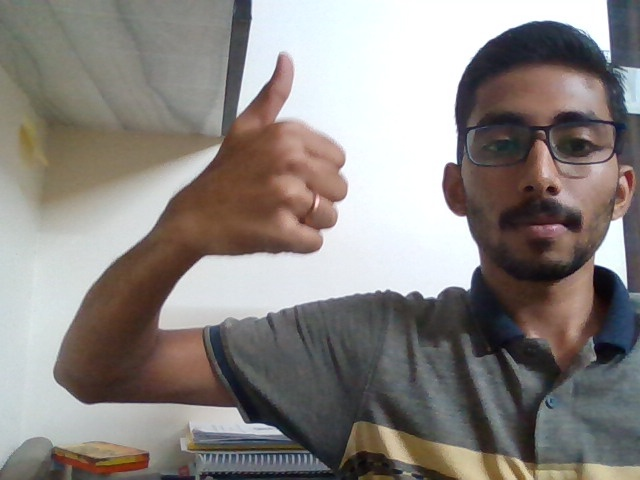Yes: (162, 44, 361, 293)
